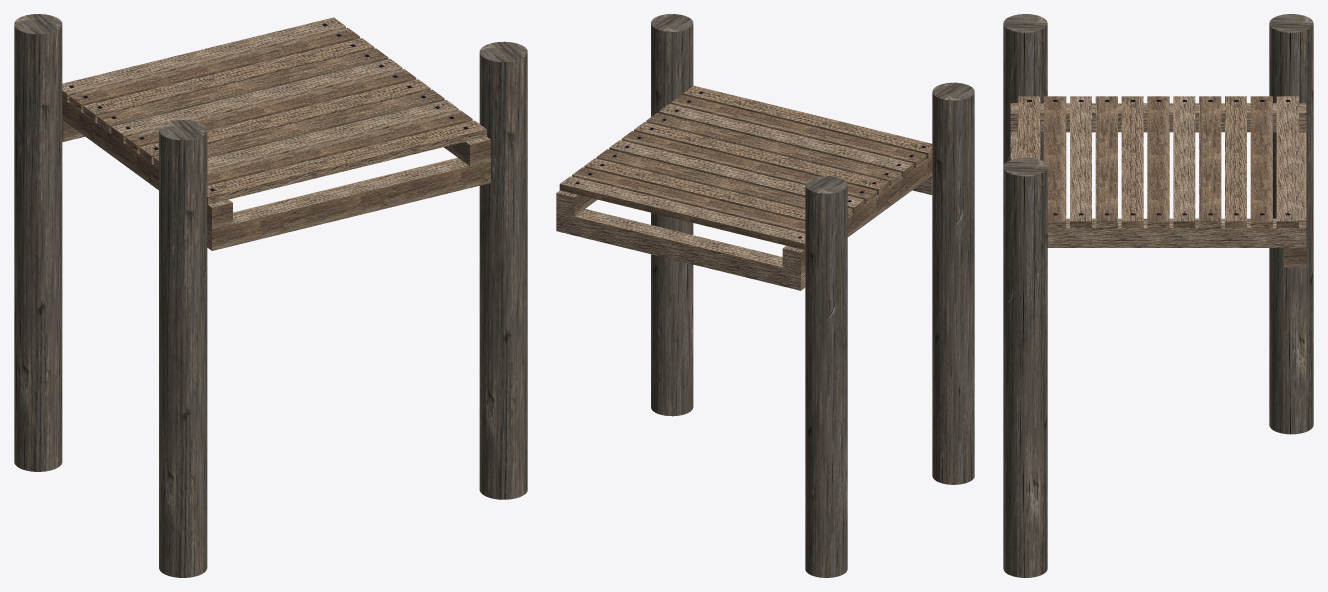
Rendered from maderas.fbx.
3 renders of one model, left to right at view 1: azimuth 30°, elevation 25°; view 2: azimuth 150°, elevation 25°; view 3: azimuth 270°, elevation 25°, orthographic. The views are drawn at different scales.
Visible parts, largest first — view 1: patas completas, pallet, poste; view 2: pallet, patas completas, poste, barra; view 3: pallet, patas completas, poste, barra.
Boxes of the visible parts, x1=… form: patas completas: x1=159, y1=41, x2=527, y2=577; pallet: x1=62, y1=17, x2=490, y2=229; poste: x1=14, y1=14, x2=62, y2=471; pallet: x1=556, y1=85, x2=932, y2=271; patas completas: x1=651, y1=14, x2=974, y2=484; poste: x1=805, y1=175, x2=847, y2=577; barra: x1=556, y1=209, x2=805, y2=290; pallet: x1=1010, y1=96, x2=1306, y2=247; patas completas: x1=1003, y1=14, x2=1047, y2=577; poste: x1=1269, y1=14, x2=1313, y2=434; barra: x1=1284, y1=132, x2=1306, y2=267.
Bounding box in the file's own units: 520 × 600 × 420.
Materials: 3 (2 with a texture image).
